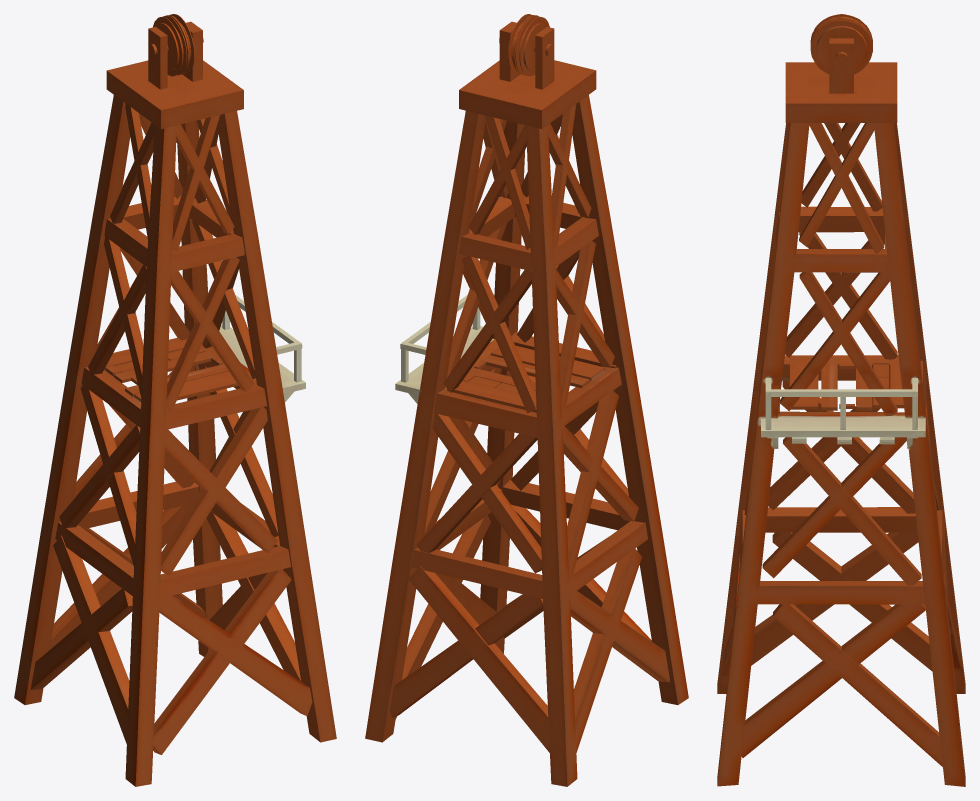
File: wl_oil_derrick.glb
The picture shows the model from 3 angles, left to right: view 1: azimuth 30°, elevation 25°; view 2: azimuth 150°, elevation 25°; view 3: azimuth 270°, elevation 25°; orthographic projection. The views are drawn at different scales.
Visible parts, largest first — view 1: wl_oil_derrick; view 2: wl_oil_derrick; view 3: wl_oil_derrick.
Boxes of the visible parts, x1,y1,x2,y2 form: wl_oil_derrick: (14, 14, 336, 786); wl_oil_derrick: (365, 14, 688, 786); wl_oil_derrick: (717, 14, 965, 786).
Bounding box in the file's own units: 4.82 × 16 × 5.02.
1 material, 1 textured.
